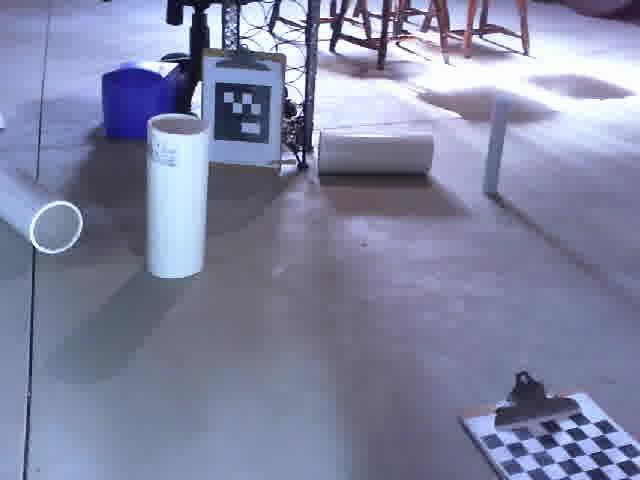coral: (146, 113, 208, 278), (0, 162, 88, 255), (315, 129, 441, 179)
